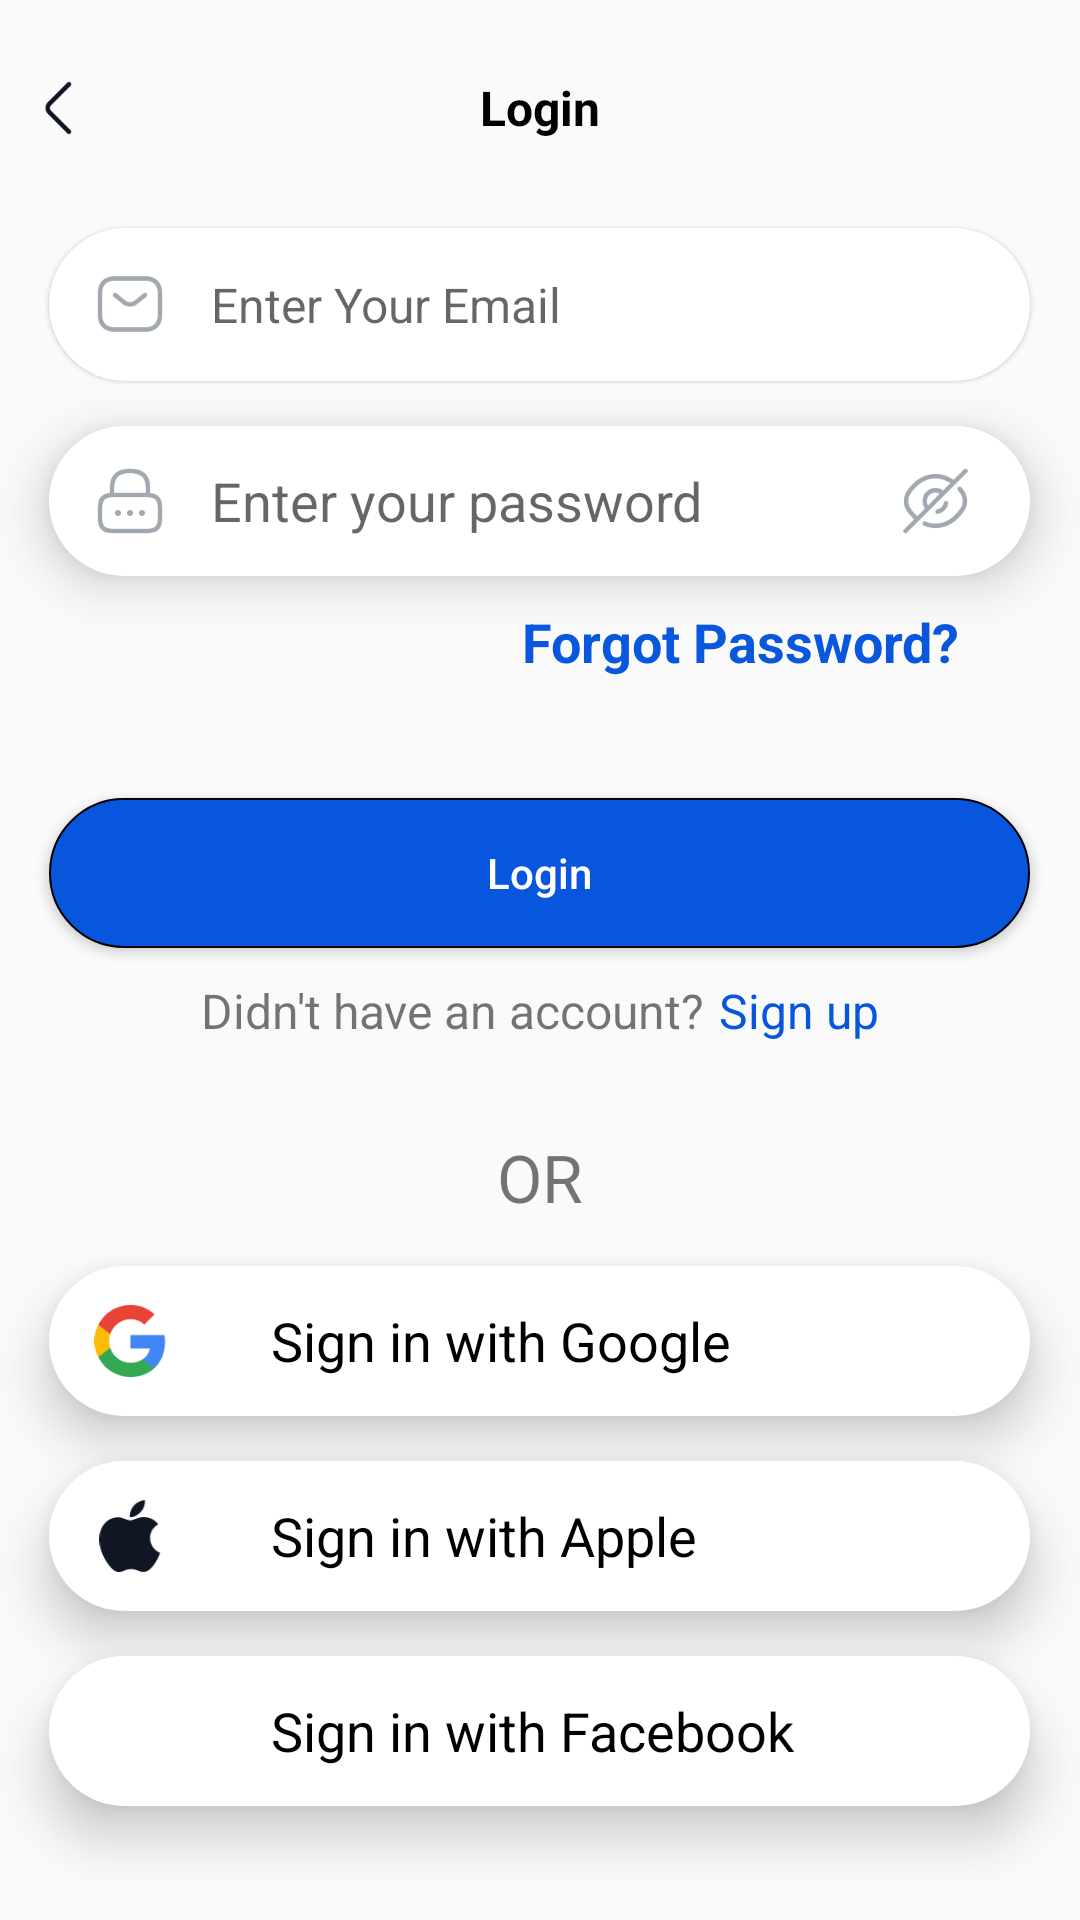

Point at icon controls on the screen. Image size 1080*1920, points as (x,y).
back arrow: (58,108)
eye: (935,501)
lock: (130,501)
